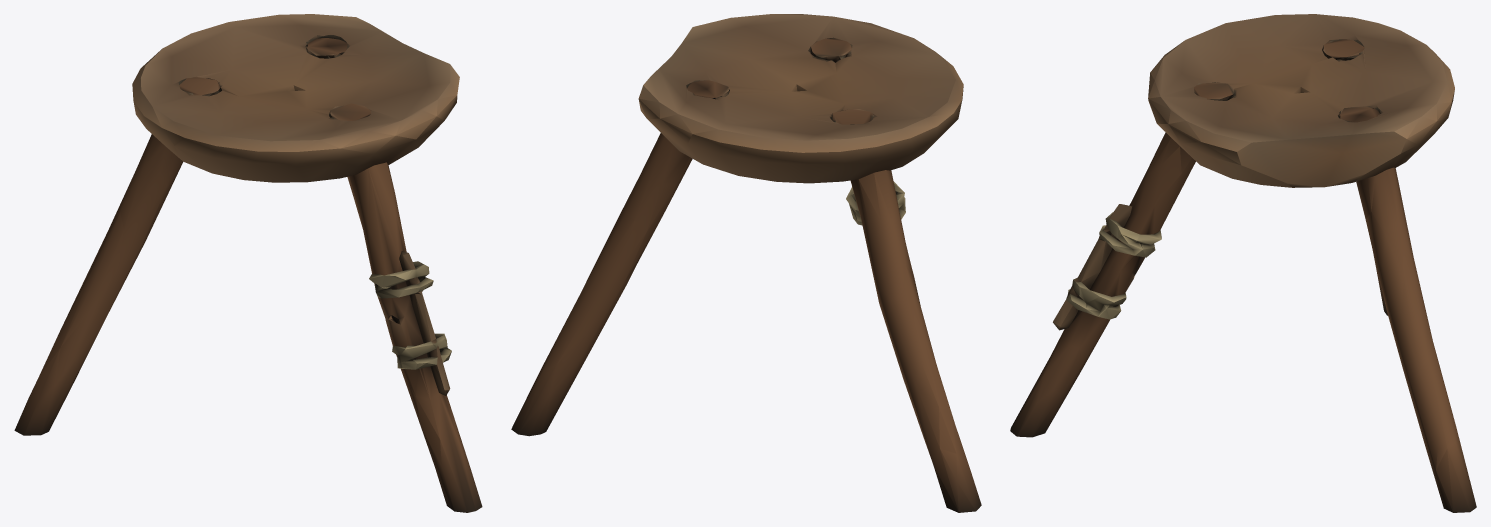
Rendered from stool.glb.
3 views of the same model, side by side, from view 1: azimuth 30°, elevation 25°; view 2: azimuth 150°, elevation 25°; view 3: azimuth 270°, elevation 25° (orthographic).
Parts seen in each view (by area): view 1: stool_LOD0; view 2: stool_LOD0; view 3: stool_LOD0.
Part boxes in pixels (x1=…): stool_LOD0: x1=14, y1=14, x2=482, y2=512; stool_LOD0: x1=511, y1=14, x2=981, y2=512; stool_LOD0: x1=1010, y1=14, x2=1476, y2=512.
Size of what is drawn, in the model's own units: 0.6054 by 0.4535 by 0.5702.
